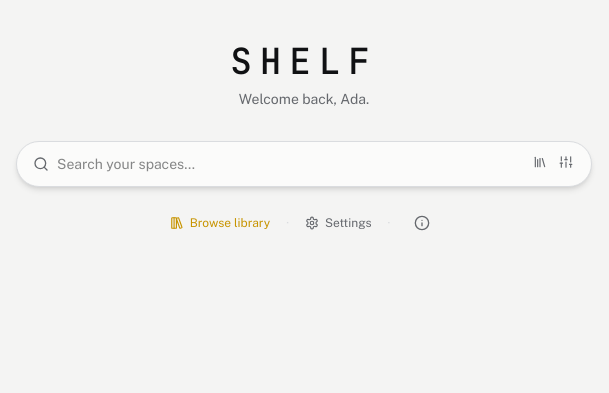
HomePage search › stops searching when every library is filtered out
In the search field with placeholder "Search your spaces…": (290, 164) [57,154,523,174], type "acme"
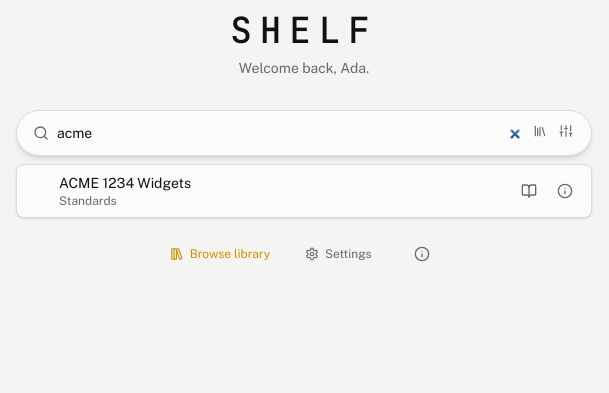
Click the button named "spaces to search": (540, 131) [531,122,549,140]
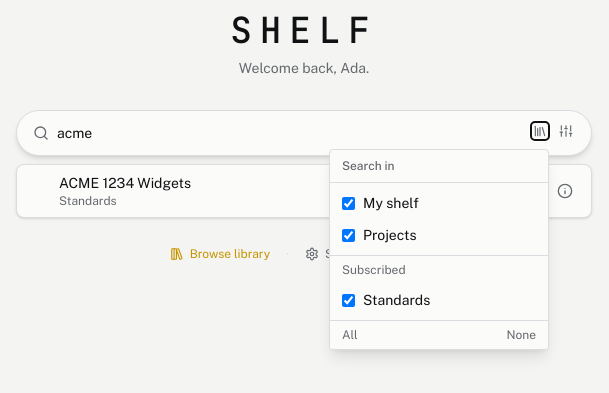
Click the button "None": (521, 335) [506,327,536,343]
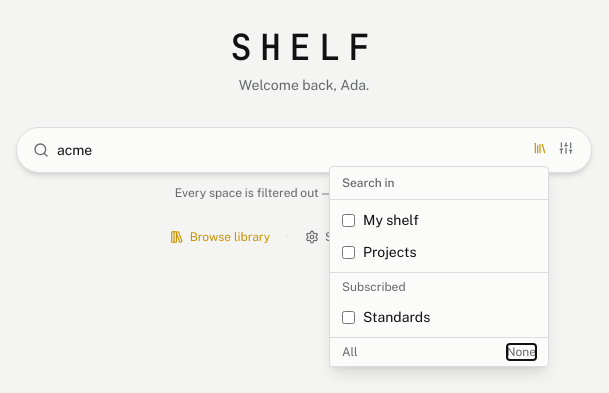
expect the text "Every space is filtered out — nothing to search." is shown: met, box [175,185,433,201]
